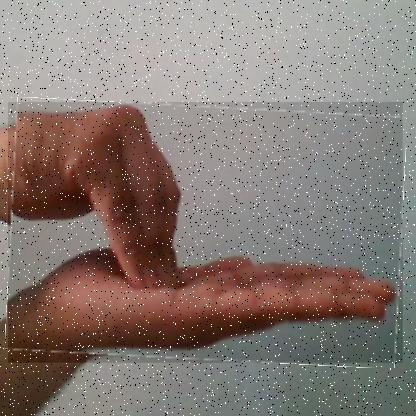Z: (8, 102, 404, 364)
